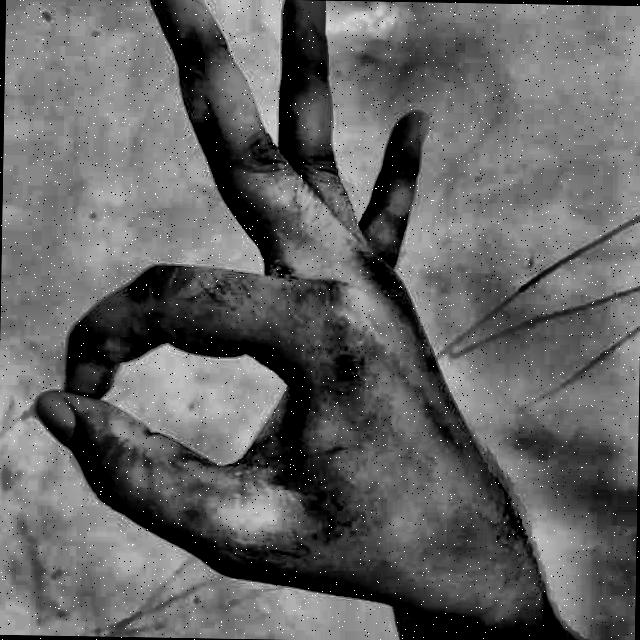Ca: (31, 0, 598, 640)
